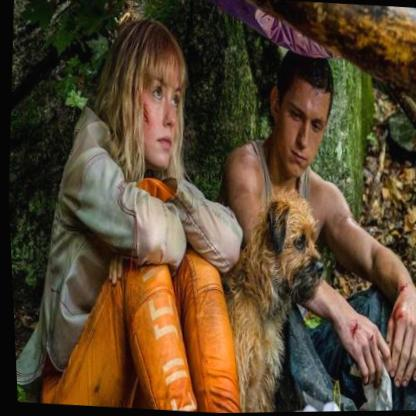dog: (210, 181, 338, 413)
person: (17, 8, 273, 416), (224, 33, 416, 413)
